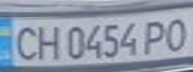0: (63, 22, 87, 60)
4: (118, 18, 145, 56), (84, 20, 106, 60)
5: (103, 20, 124, 58)
C: (6, 23, 42, 62)
H: (30, 21, 63, 61)
O: (160, 15, 193, 52)
P: (139, 16, 172, 55)
